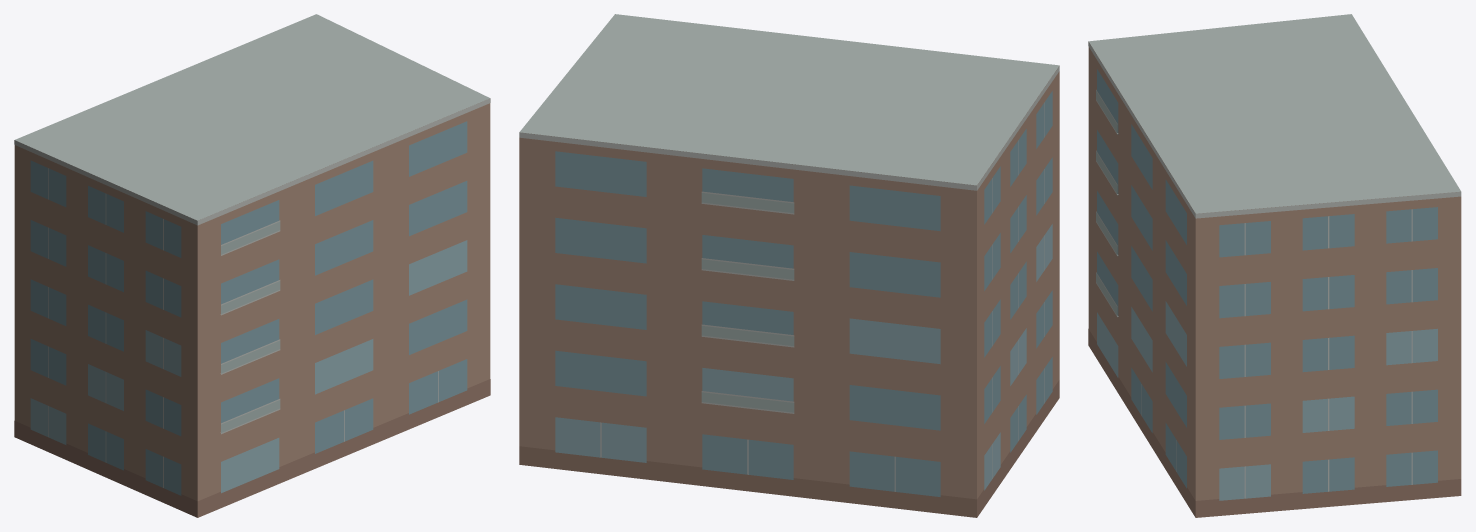
The model's file is survey-upis-32721484.glb.
The picture shows the model from 3 angles, left to right: view 1: azimuth 30°, elevation 25°; view 2: azimuth 150°, elevation 25°; view 3: azimuth 270°, elevation 25°; orthographic projection. The views are drawn at different scales.
Visible parts, largest first — view 1: survey-upis-32721484.tmp; view 2: survey-upis-32721484.tmp; view 3: survey-upis-32721484.tmp.
Boxes of the visible parts, bbox=[...] form: survey-upis-32721484.tmp: bbox=[14, 14, 490, 517]; survey-upis-32721484.tmp: bbox=[519, 14, 1059, 517]; survey-upis-32721484.tmp: bbox=[1088, 14, 1461, 517].
Size of the model in its own units: 21.41 by 15.2 by 16.9.
